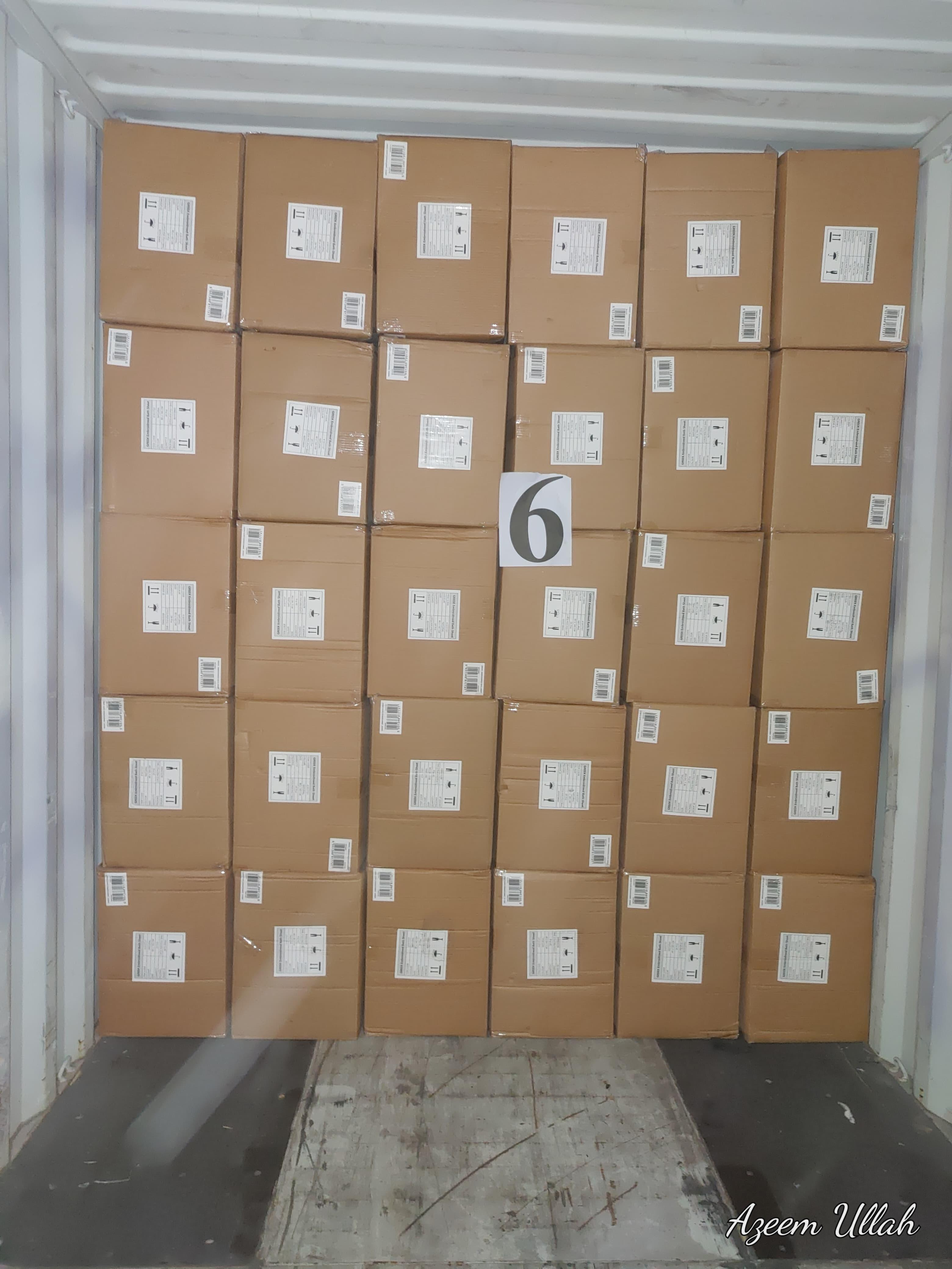carton: (101, 117, 245, 330), (770, 147, 919, 350), (239, 133, 378, 338), (508, 145, 647, 346), (376, 135, 511, 341), (638, 150, 777, 349), (762, 349, 906, 534), (238, 330, 375, 524), (502, 345, 645, 530), (103, 323, 240, 516), (372, 336, 509, 527), (751, 530, 894, 709), (99, 514, 236, 696), (623, 529, 763, 706), (235, 519, 370, 702), (494, 530, 633, 705), (639, 349, 770, 531), (233, 698, 370, 872), (96, 866, 233, 1039), (99, 696, 234, 870), (620, 702, 757, 873), (368, 696, 500, 870), (232, 869, 366, 1040), (741, 873, 875, 1043), (495, 700, 626, 873), (367, 526, 498, 699), (749, 707, 883, 875), (616, 871, 745, 1038), (365, 867, 491, 1036), (491, 870, 616, 1038)
